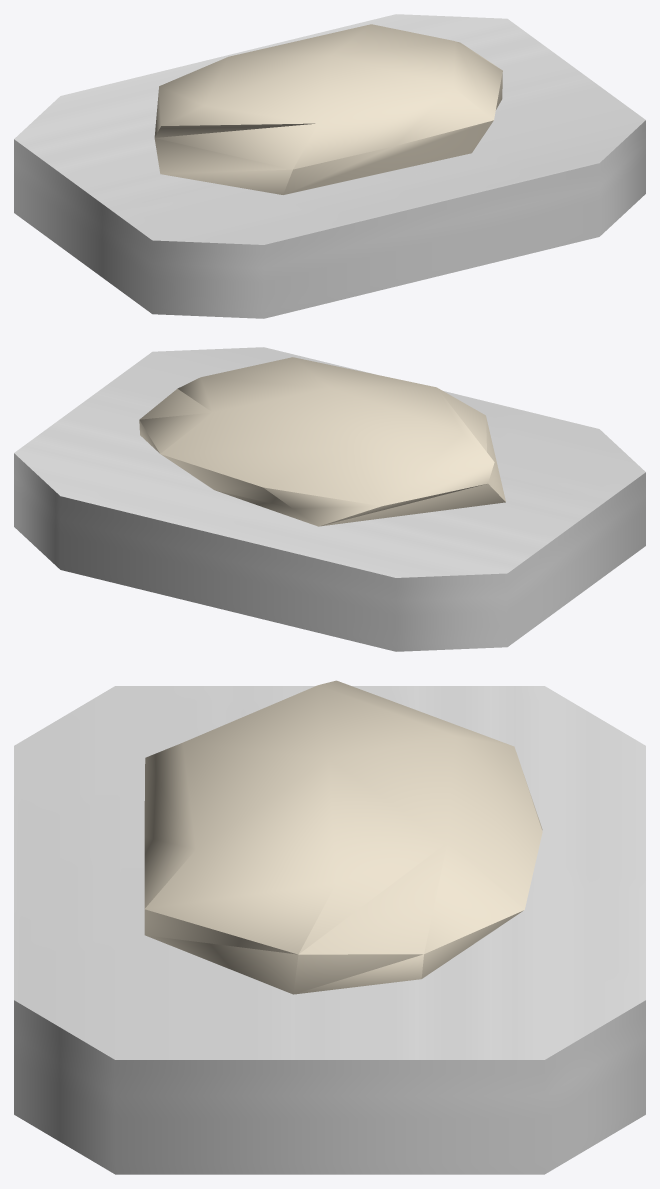
File: drug_flake.obj
3 renders of one model, top to bottom at view 1: azimuth 30°, elevation 25°; view 2: azimuth 150°, elevation 25°; view 3: azimuth 270°, elevation 25°, orthographic. The views are drawn at different scales.
Visible parts, largest first — view 1: part_000_gun_white, part_005_pill; view 2: part_000_gun_white, part_005_pill; view 3: part_000_gun_white, part_005_pill.
Boxes of the visible parts, x1,y1,x2,y2 form: part_000_gun_white: [14, 14, 645, 318]; part_005_pill: [154, 24, 502, 194]; part_000_gun_white: [14, 347, 645, 651]; part_005_pill: [139, 357, 505, 526]; part_000_gun_white: [14, 686, 645, 1174]; part_005_pill: [144, 680, 542, 994].
Bounding box in the file's own units: 0.28 × 0.08 × 0.2.
